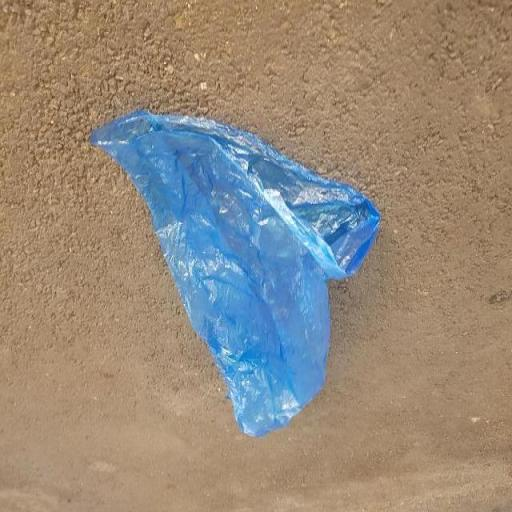plastic-bag: (89, 106, 383, 442)
